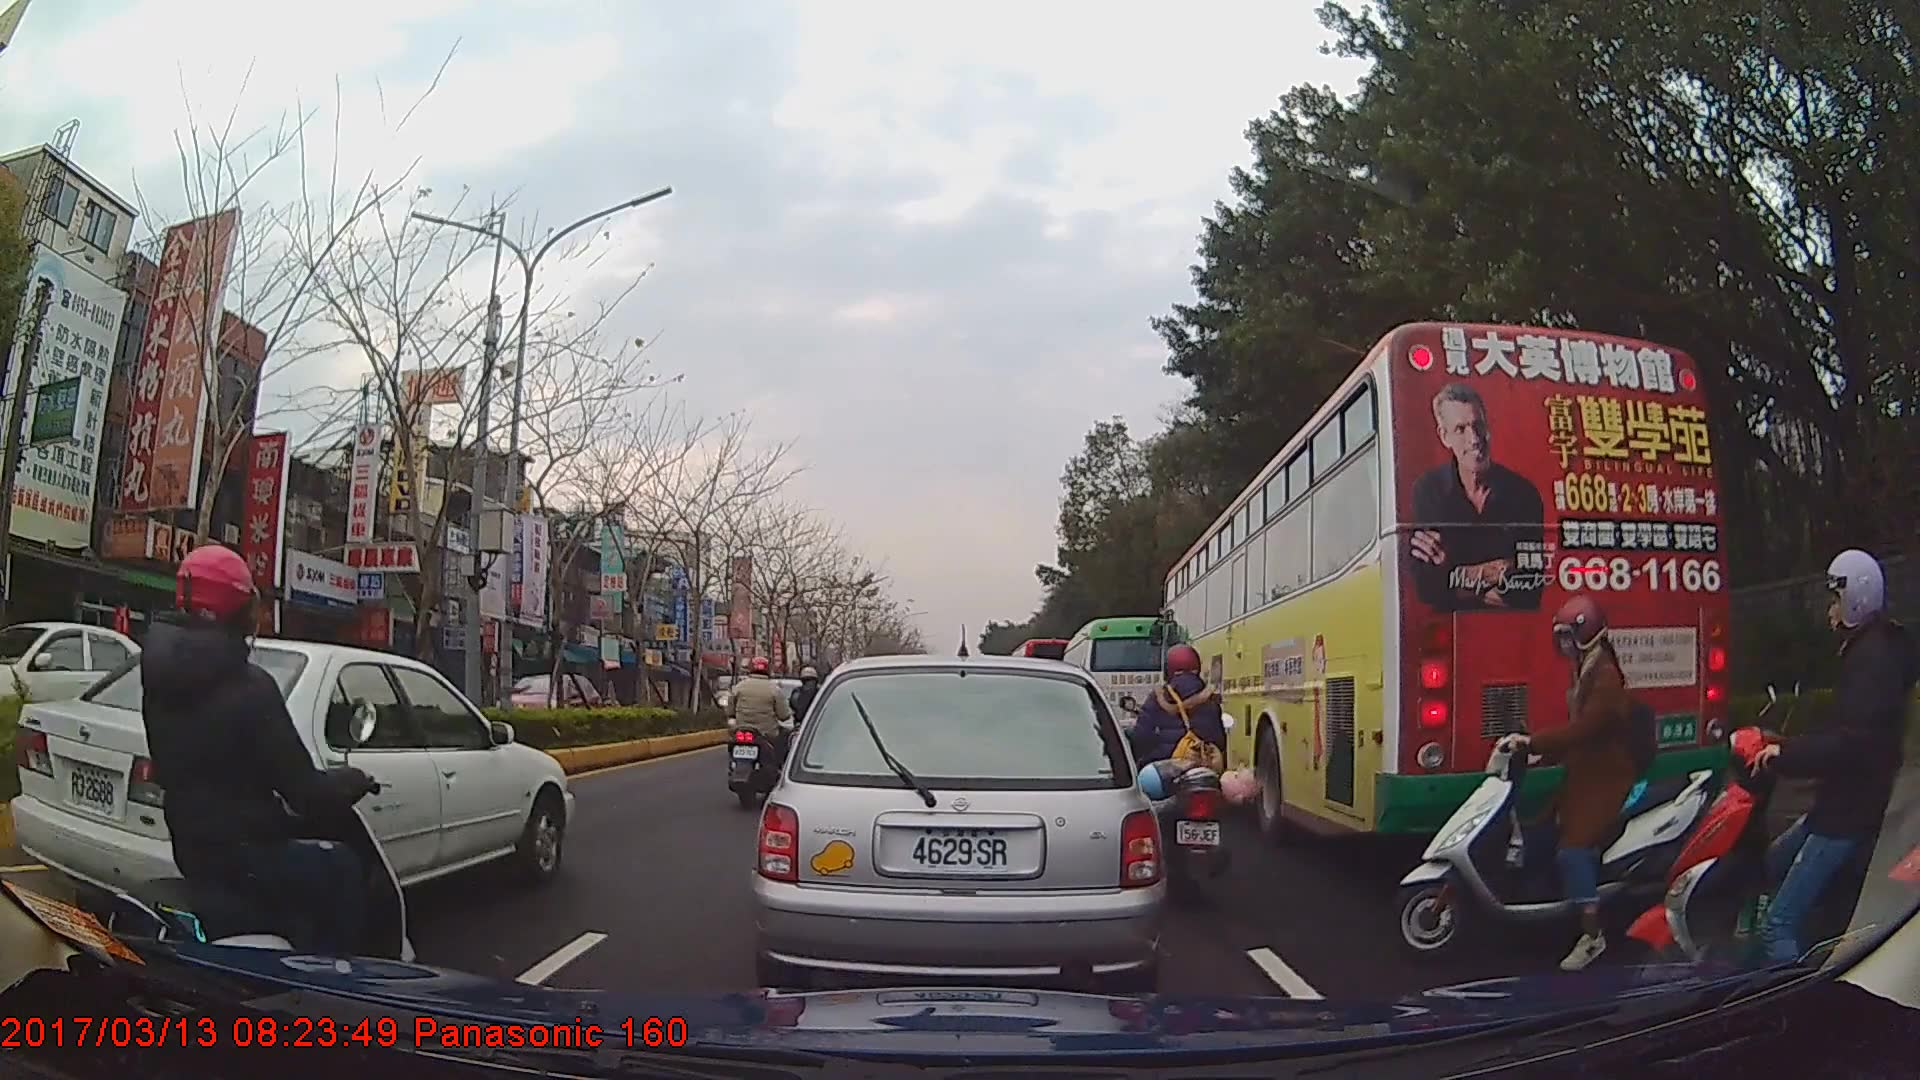rider: (105, 543, 418, 1010), (1383, 592, 1721, 970), (1631, 551, 1911, 999), (1122, 646, 1258, 906), (724, 656, 789, 810), (789, 667, 835, 762)
vehicle: (1159, 319, 1731, 846), (28, 628, 575, 940), (747, 655, 1166, 994), (0, 618, 219, 746), (1060, 615, 1171, 757), (496, 670, 602, 736)
